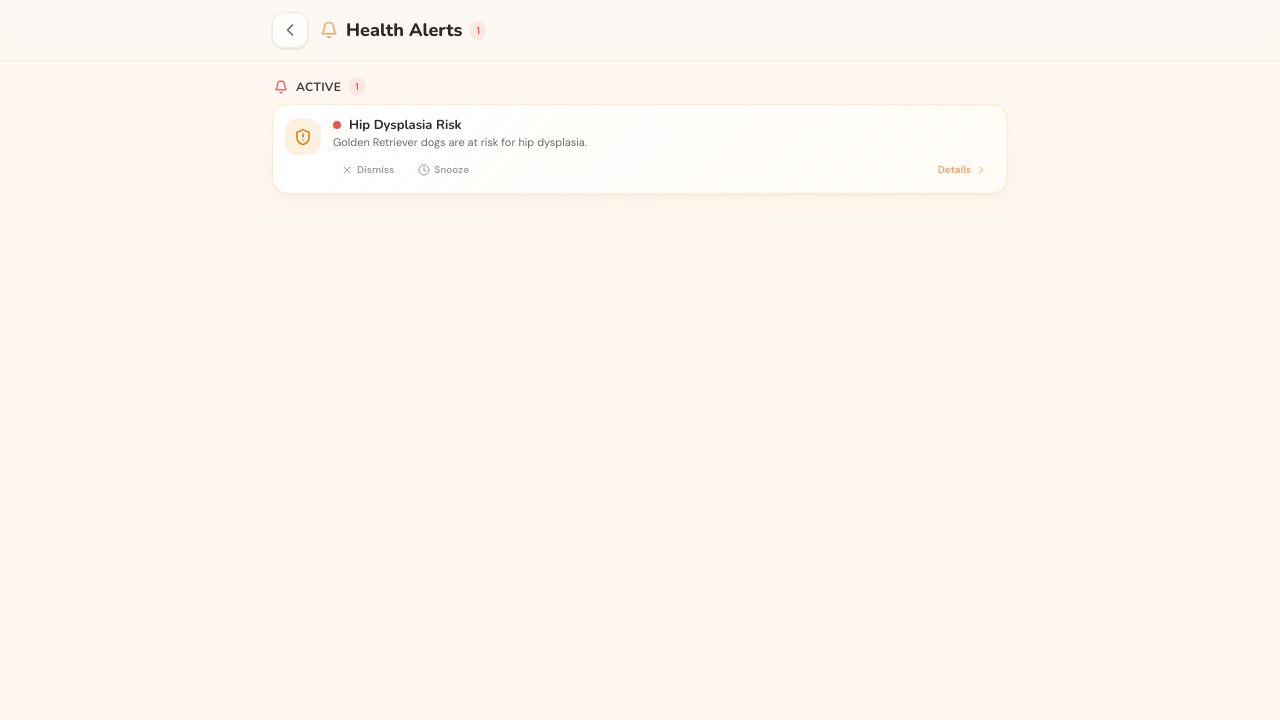
Test case: AlertsPage › closes detail modal on close button click
Expected: the heading "Hip Dysplasia Risk" is shown, [349,117,462,133]
Open modal
Click the button with aria-label "view details for hip dysplasia risk". click: (962, 170)
box: [930,158,995,181]
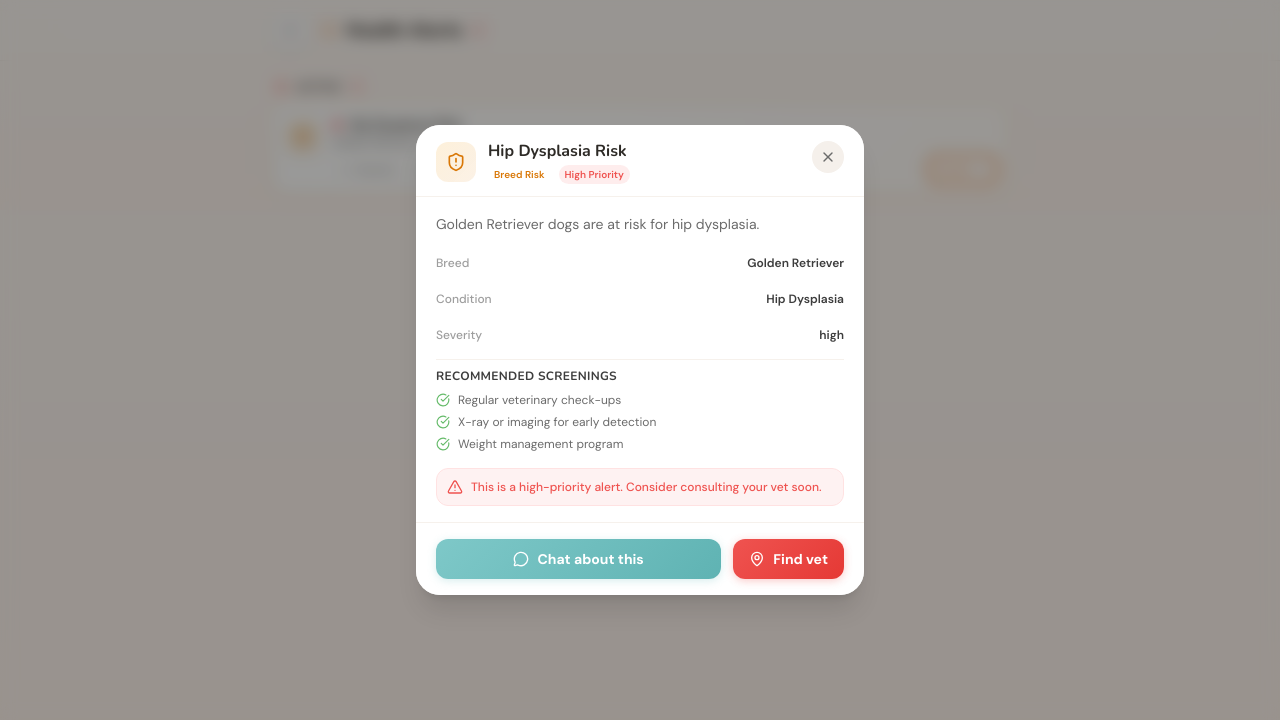
Expected: the element with test id "alert-detail-modal" is shown
Close modal
Click the button named "close". click: (828, 157)
box: [812,141,844,173]
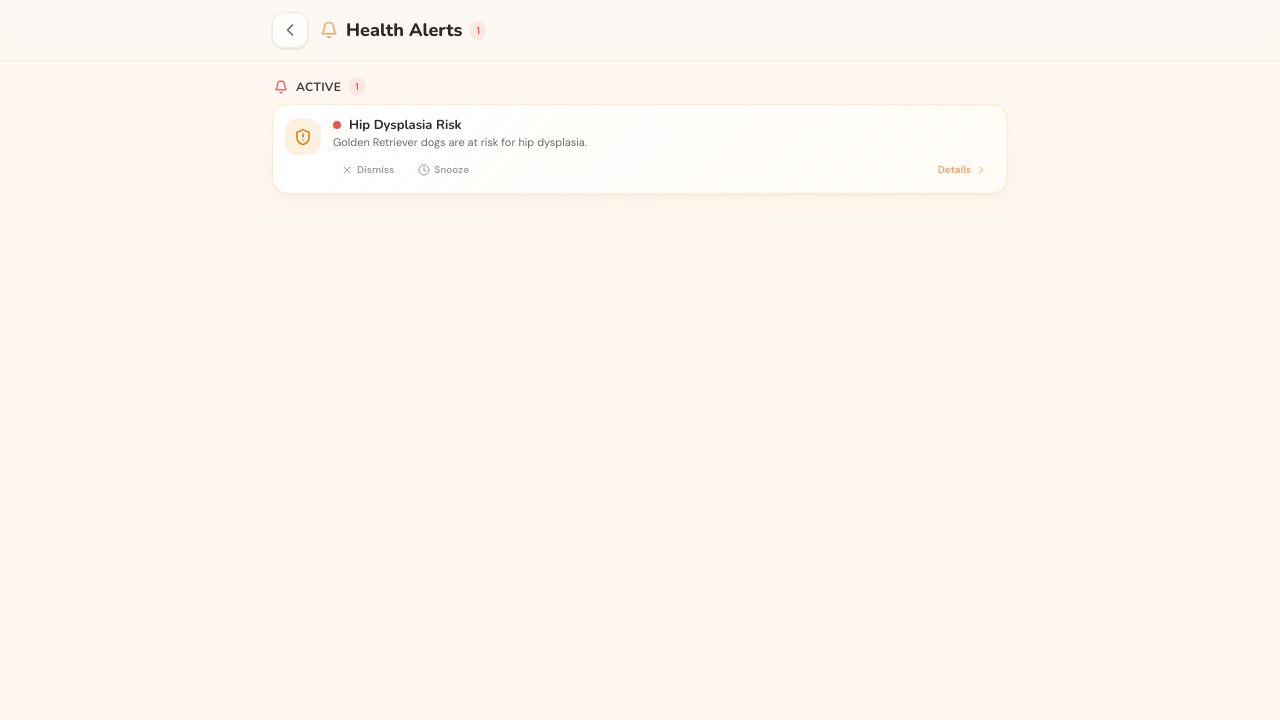
Expected: the element with test id "alert-detail-modal" is gone
